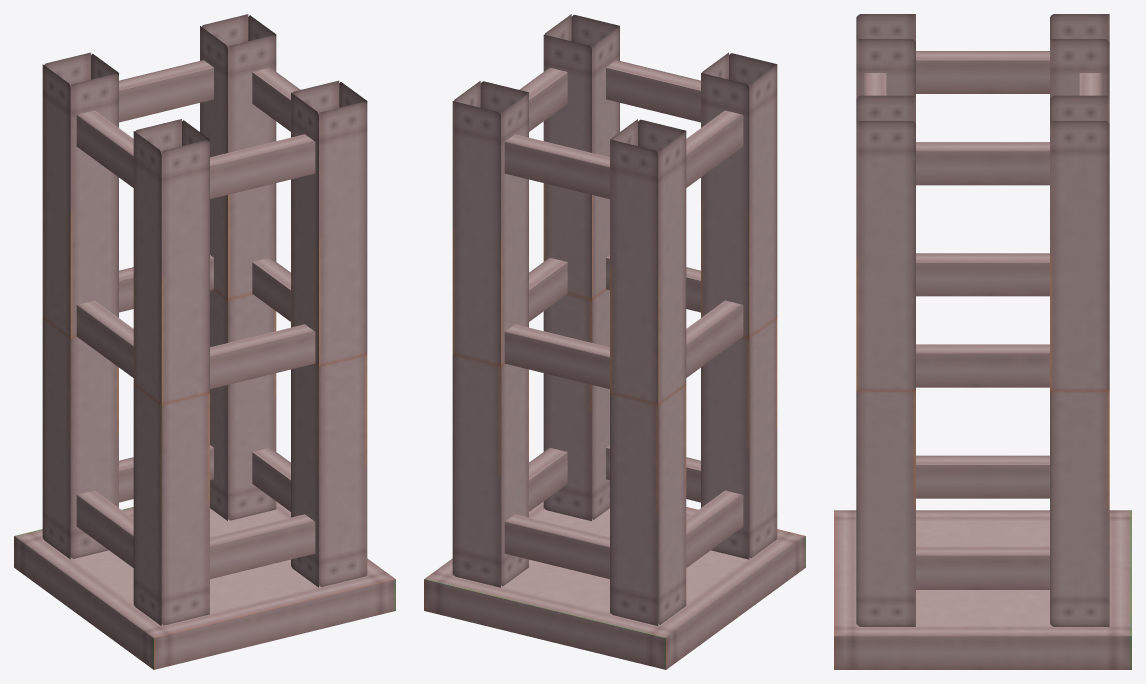
File: Piston.fbx
3 views of the same model, side by side, from view 1: azimuth 30°, elevation 25°; view 2: azimuth 150°, elevation 25°; view 3: azimuth 270°, elevation 25° (orthographic). The views are drawn at different scales.
Visible parts, largest first — view 1: Cube; view 2: Cube; view 3: Cube.
Part boxes in pixels (x1,y1,x2,y2): Cube: (14,14,395,669); Cube: (424,14,805,669); Cube: (834,14,1131,669).
Bounding box in the file's own units: 400 × 800 × 400.
